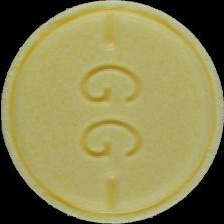55700-053: (0, 0, 224, 224)
